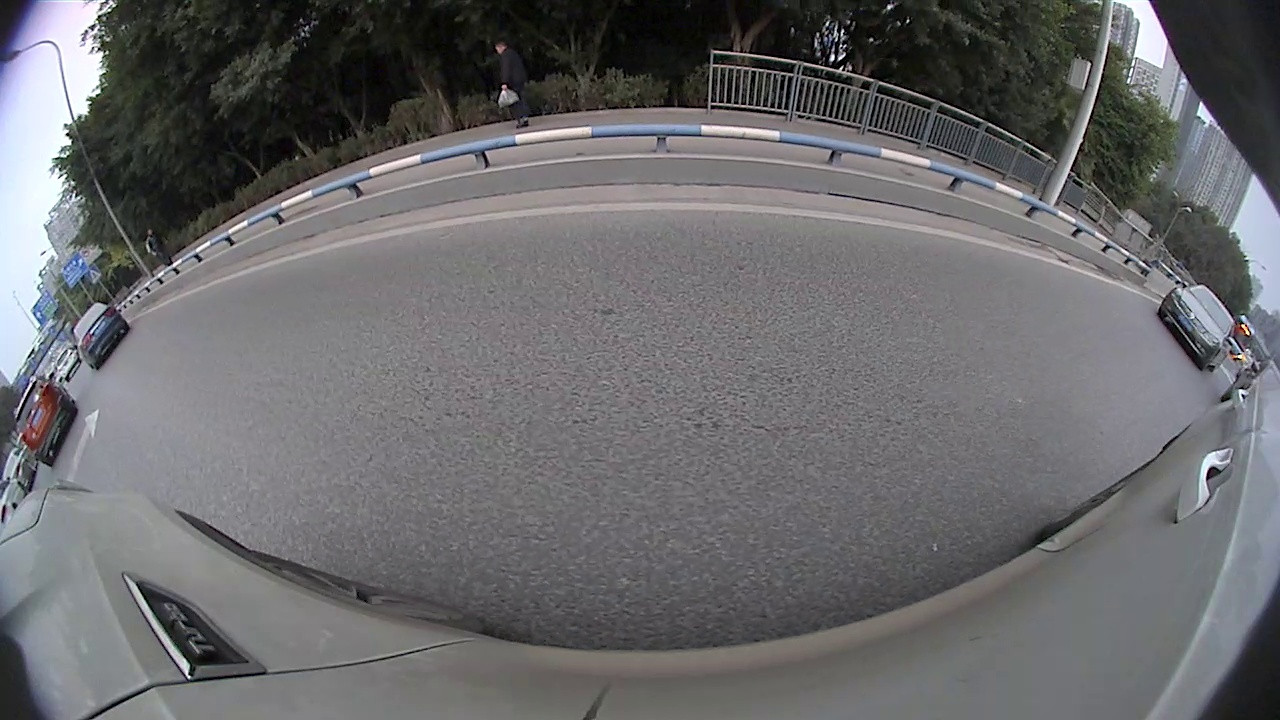car: (1155, 282, 1236, 374), (6, 371, 80, 468), (69, 300, 130, 365), (1224, 359, 1277, 403), (1, 470, 33, 521), (51, 342, 82, 378)
front: (1199, 350, 1218, 372), (1154, 302, 1171, 319)
person: (497, 37, 527, 133), (144, 227, 162, 275)
rear: (37, 452, 56, 466), (64, 403, 79, 417), (1219, 389, 1232, 403)
